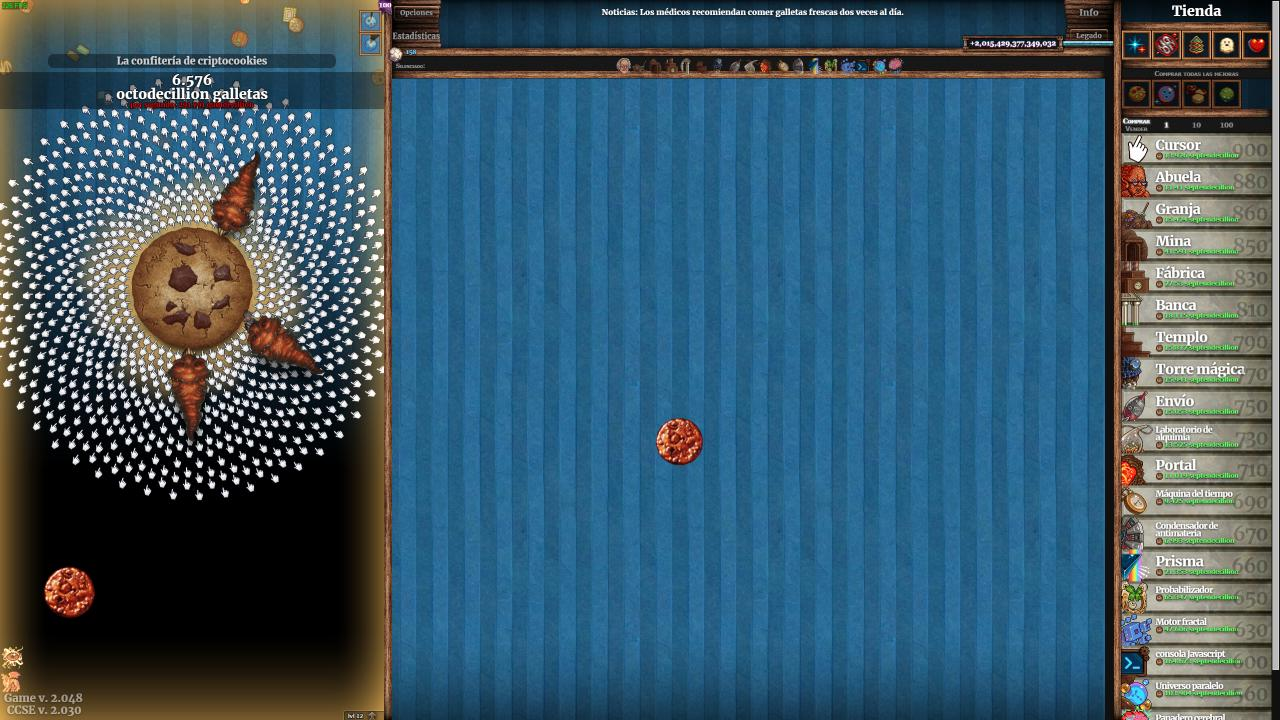RedCookie: (41, 564, 96, 620), (653, 415, 705, 469)
